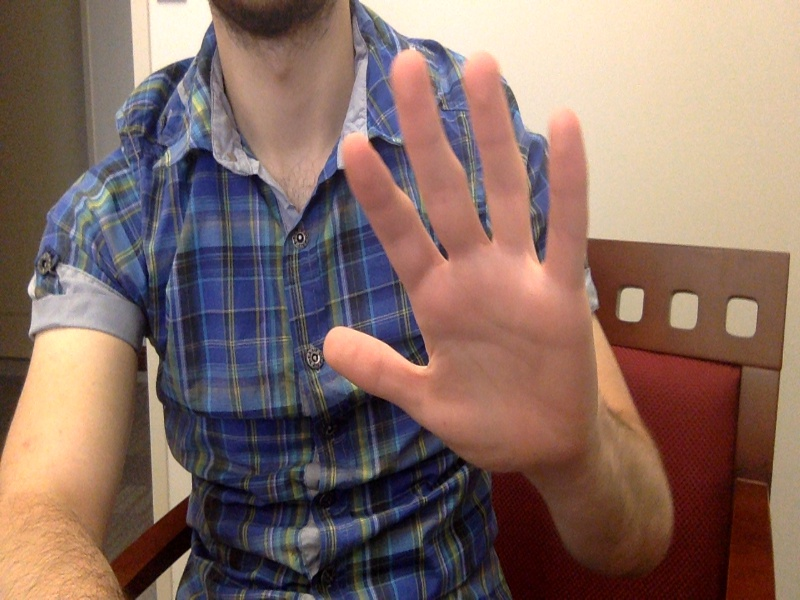5-hand: (324, 56, 607, 471)
